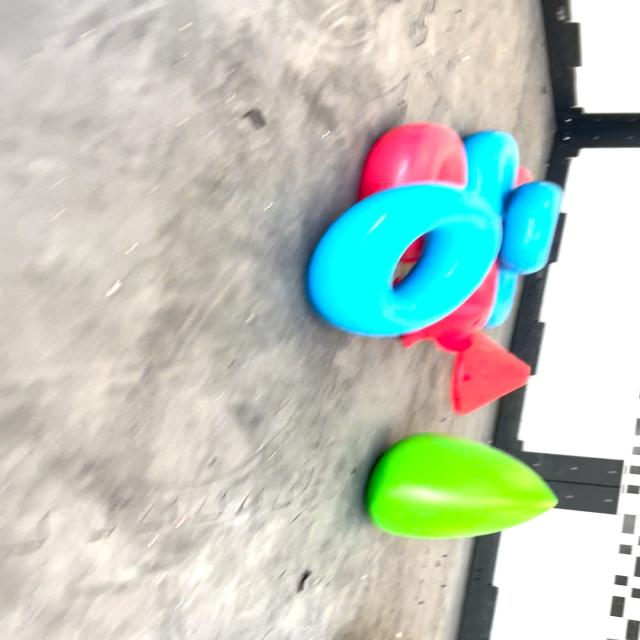Blue-Ring: (307, 184, 502, 336), (500, 181, 562, 274), (464, 130, 520, 214)
Red-Ring: (358, 122, 467, 200)
